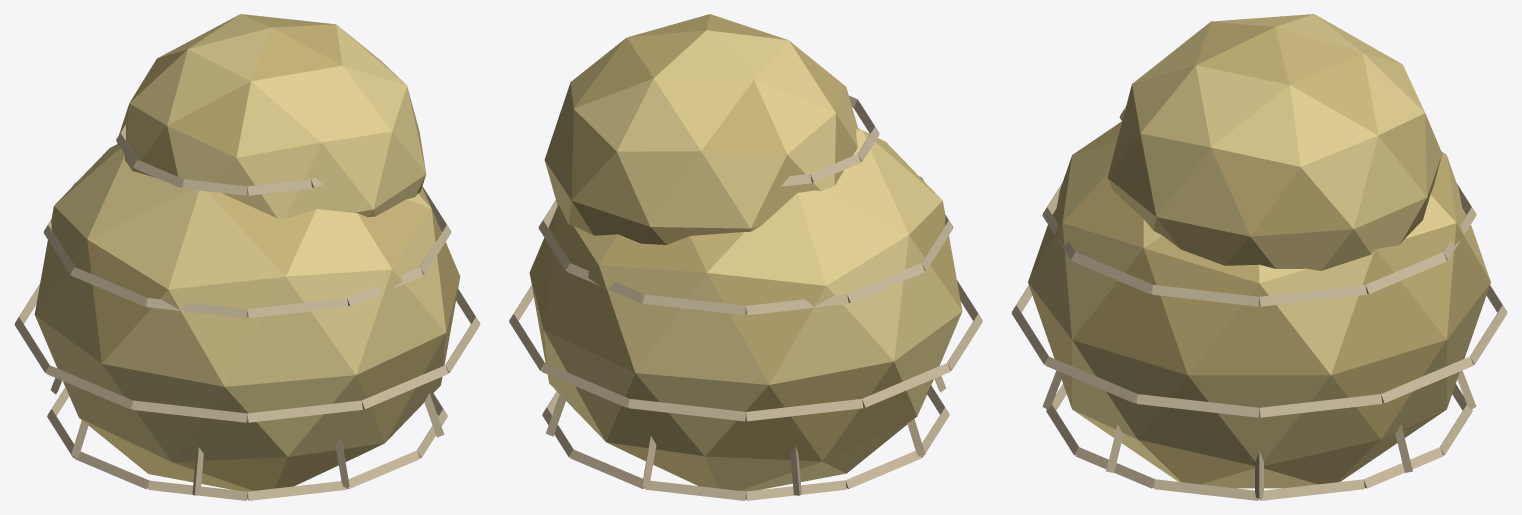
File: hay_net.glb
3 views of the same model, side by side, from view 1: azimuth 30°, elevation 25°; view 2: azimuth 150°, elevation 25°; view 3: azimuth 270°, elevation 25° (orthographic). The views are drawn at different scales.
Visible parts, largest first — view 1: hay_net; view 2: hay_net; view 3: hay_net.
Boxes of the visible parts, <box> form: hay_net: <box>14,14,480,500</box>; hay_net: <box>509,14,982,500</box>; hay_net: <box>1011,14,1507,500</box>.
Bounding box in the file's own units: 0.6425 × 0.664 × 0.6425.
